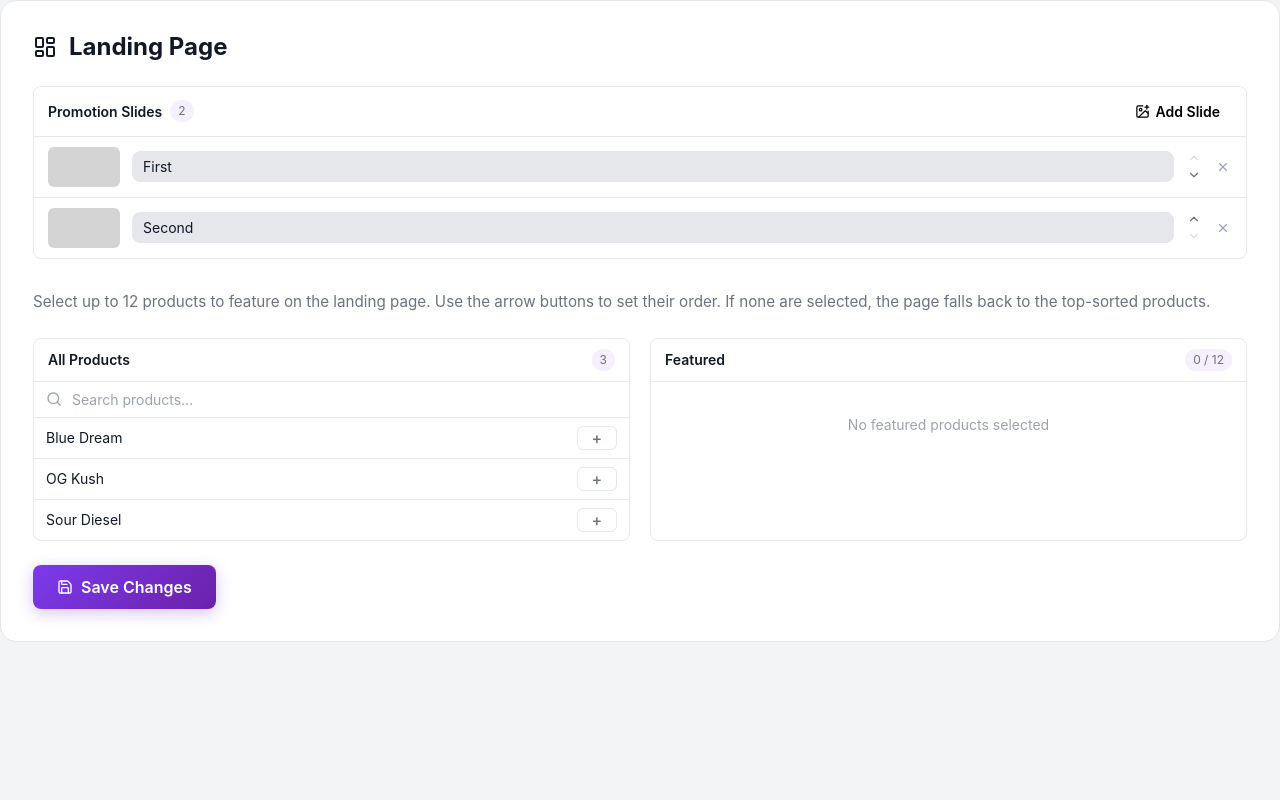
Scenario: LandingPageSection › reorders promotion slides with move up/down
Expected: the 1st field with placeholder "Description (optional)" holds "First", [132,151,1174,182]
Expected: the 2nd field with placeholder "Description (optional)" holds "Second", [132,212,1174,243]
Note: Click move-up on the second slide (index 1) to bring it above the first
Click the 2nd button titled "Move up".
click(1194, 219)  # box [1186,211,1202,227]
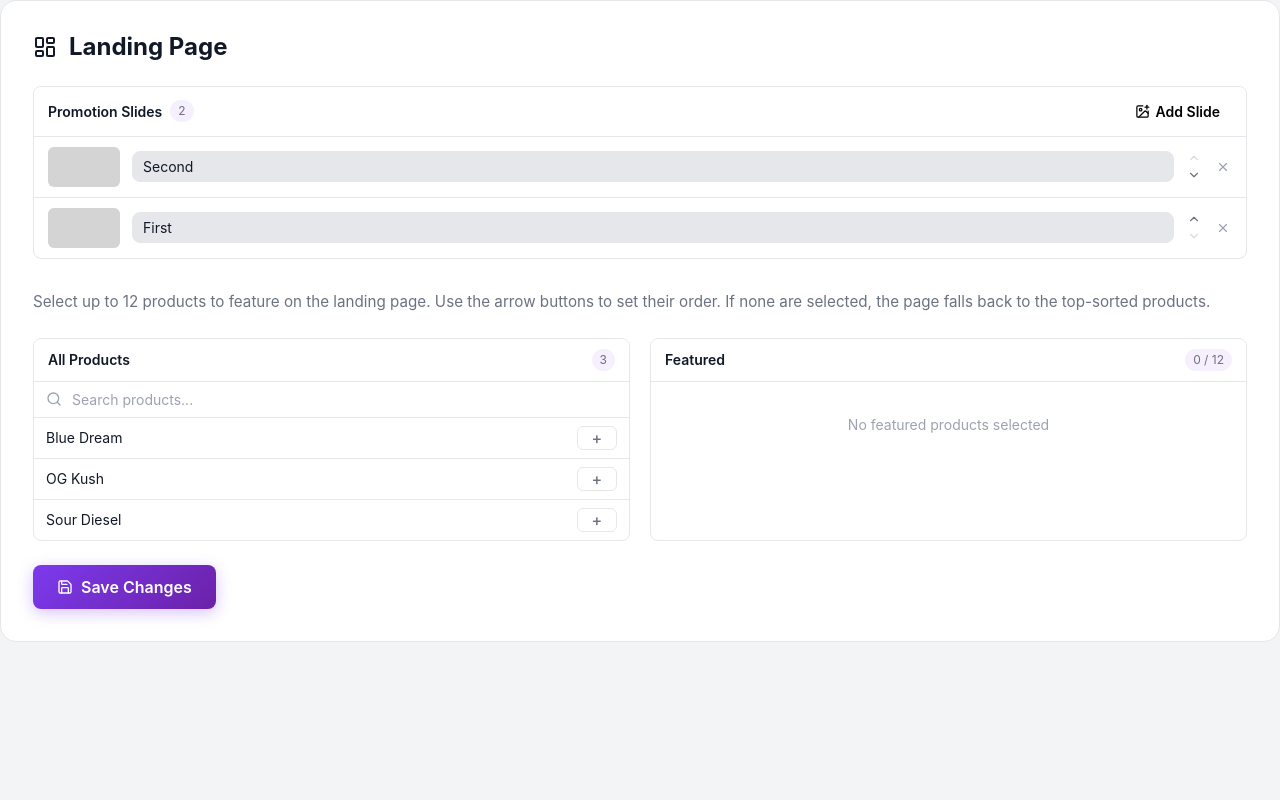
Expected: the 1st field with placeholder "Description (optional)" holds "Second", [132,151,1174,182]
Expected: the 2nd field with placeholder "Description (optional)" holds "First", [132,212,1174,243]
